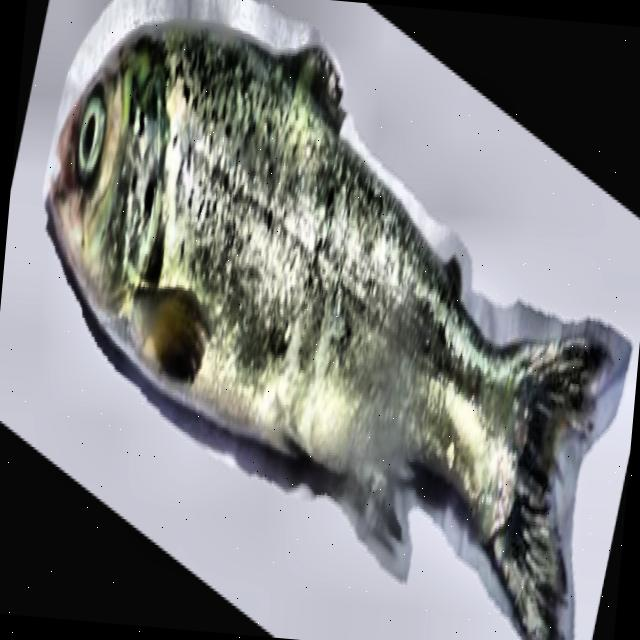mild_red: (163, 26, 516, 535)
